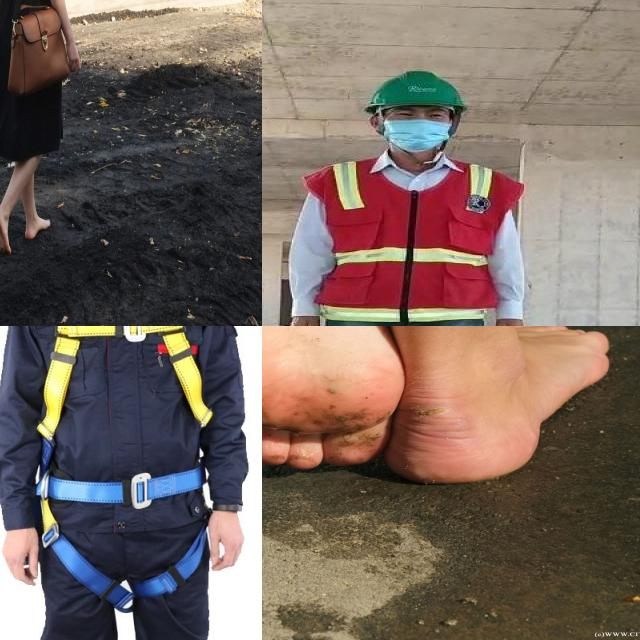Barefoots: (384, 326, 609, 483), (262, 326, 404, 469), (25, 217, 50, 239), (0, 209, 11, 254)
Harness: (35, 326, 213, 605)
No_Ear-Protection: (361, 102, 385, 134)
face_mask: (383, 115, 452, 155)
hand_noglove: (274, 287, 326, 326), (484, 294, 527, 326)
person: (271, 69, 531, 326)
